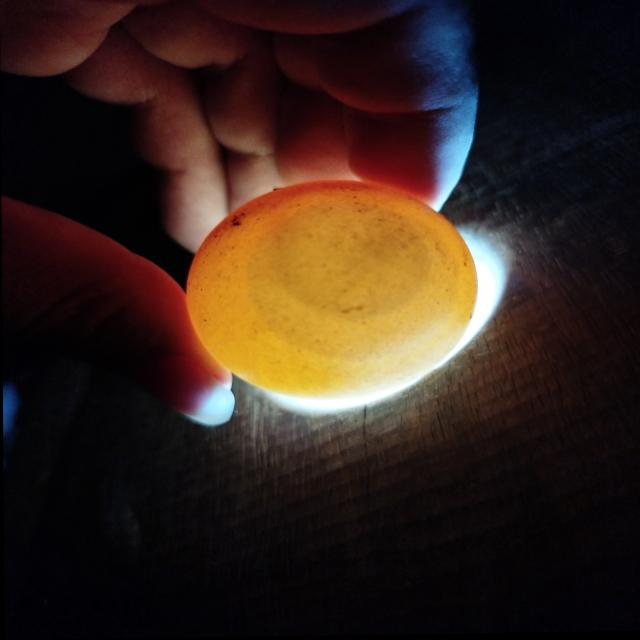Camara de Ar: (250, 202, 456, 360)
